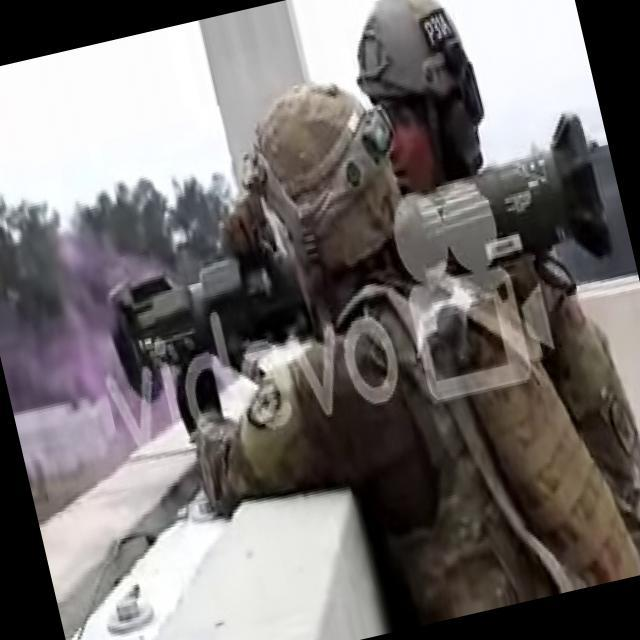rocket: (84, 112, 622, 401)
